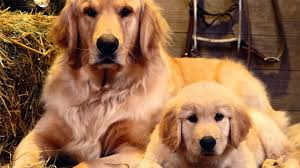Bulldog: (41, 1, 238, 82), (157, 81, 287, 168)
